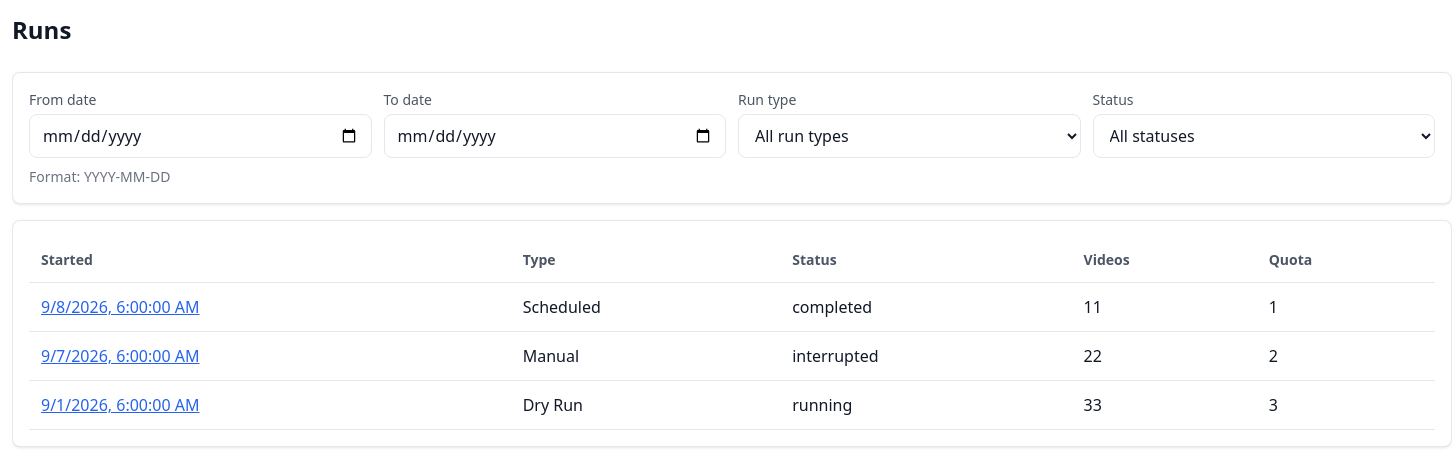
Test case: RunsView › filters › filters runs by the date range of the run start
expect the table is shown: met, box left=29, top=237, right=1435, bottom=430
Type "2026-09-07" into the date field labelled "From date".
click(200, 136); type("2026-09-07")  # box left=29, top=114, right=372, bottom=158
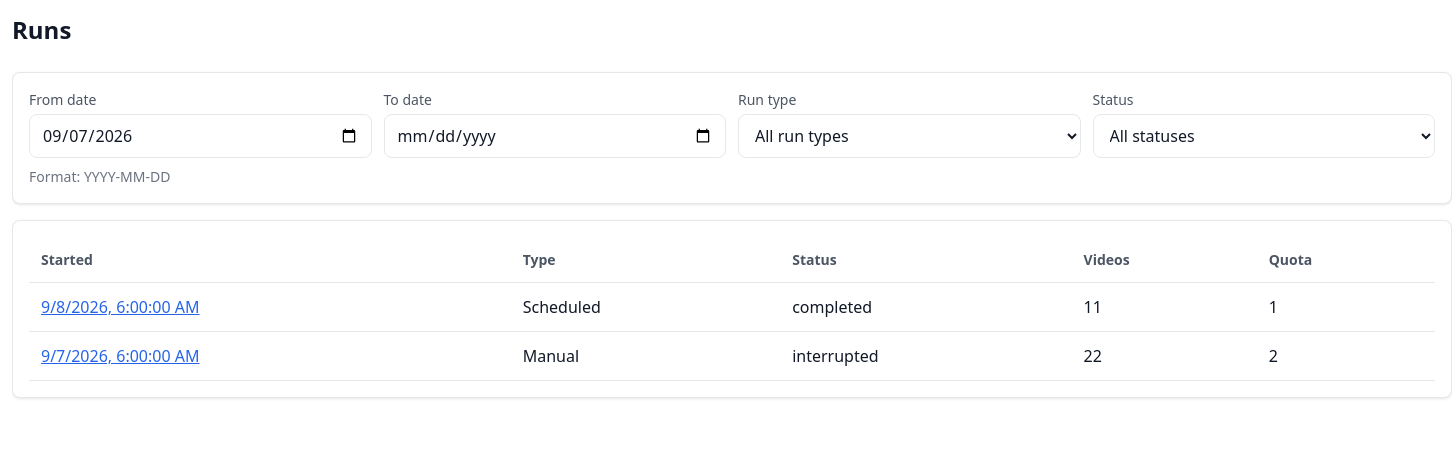
Type "2026-09-07" into the date field labelled "To date".
click(555, 136); type("2026-09-07")  # box left=384, top=114, right=726, bottom=158
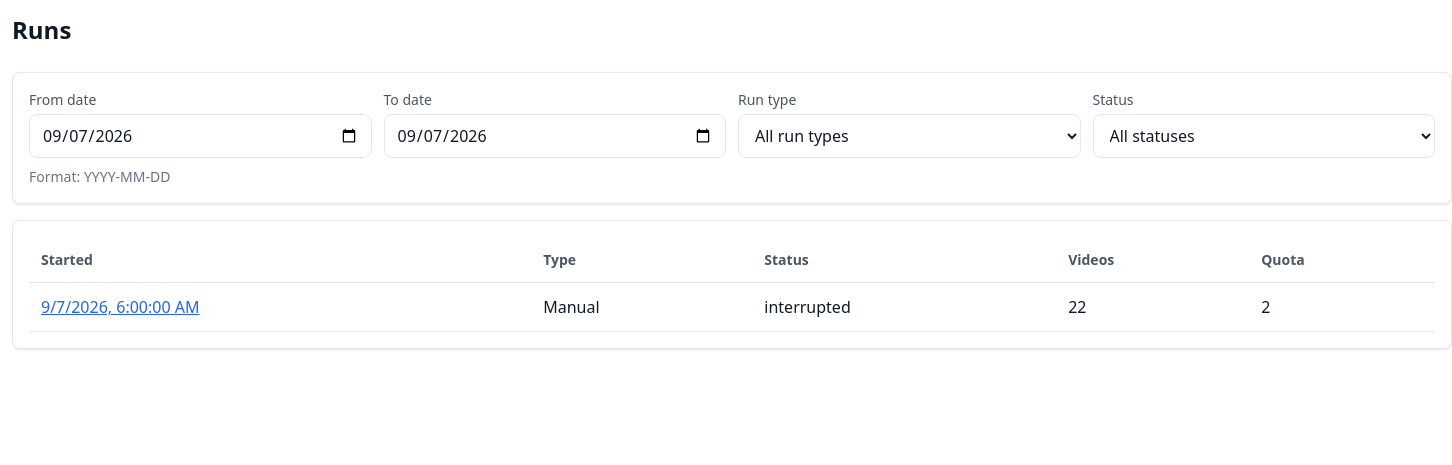
expect the text "22" is shown: met, box left=1056, top=282, right=1249, bottom=332
expect the text "11" is gone: met
